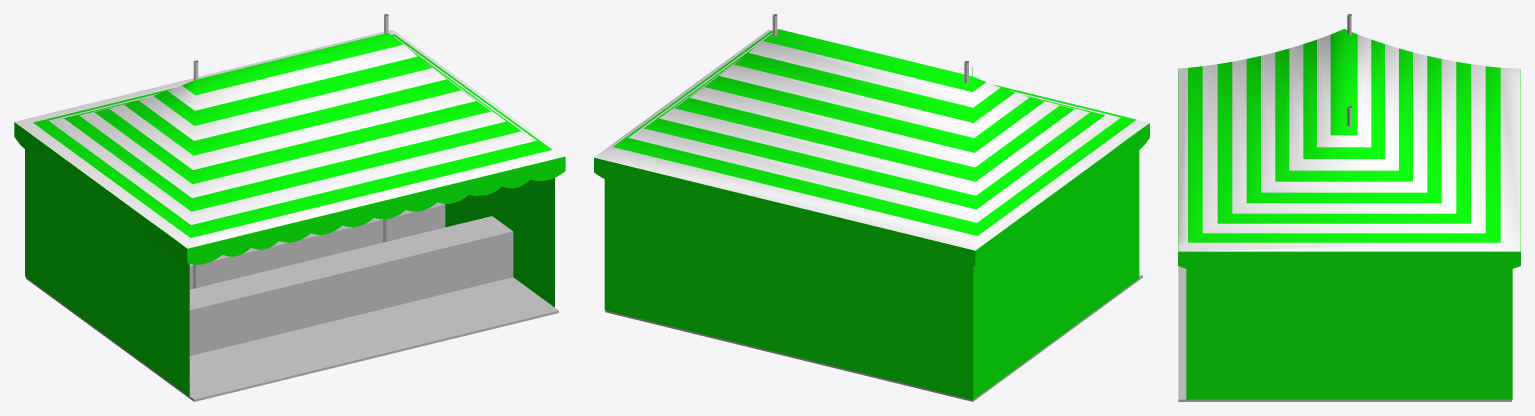
The model's file is TiraLosCubosEscenario.fbx.
3 views of the same model, side by side, from view 1: azimuth 30°, elevation 25°; view 2: azimuth 150°, elevation 25°; view 3: azimuth 270°, elevation 25° (orthographic).
Visible parts, largest first — view 1: Carpa2, Box009, Box014, Box012, [1584]001; view 2: Carpa2, Box014; view 3: Carpa2, Box014.
Part boxes in pixels (x1,y1,x2,y2): Carpa2: (14,29,565,396); Box009: (189,216,513,355); Box014: (26,277,558,401); Box012: (189,202,445,289); [1584]001: (193,14,389,288); Carpa2: (594,29,1149,399); Box014: (605,274,1142,401); Carpa2: (1178,29,1520,399); Box014: (1178,266,1511,401).
Bounding box in the file's own units: 519 × 335 × 411.
